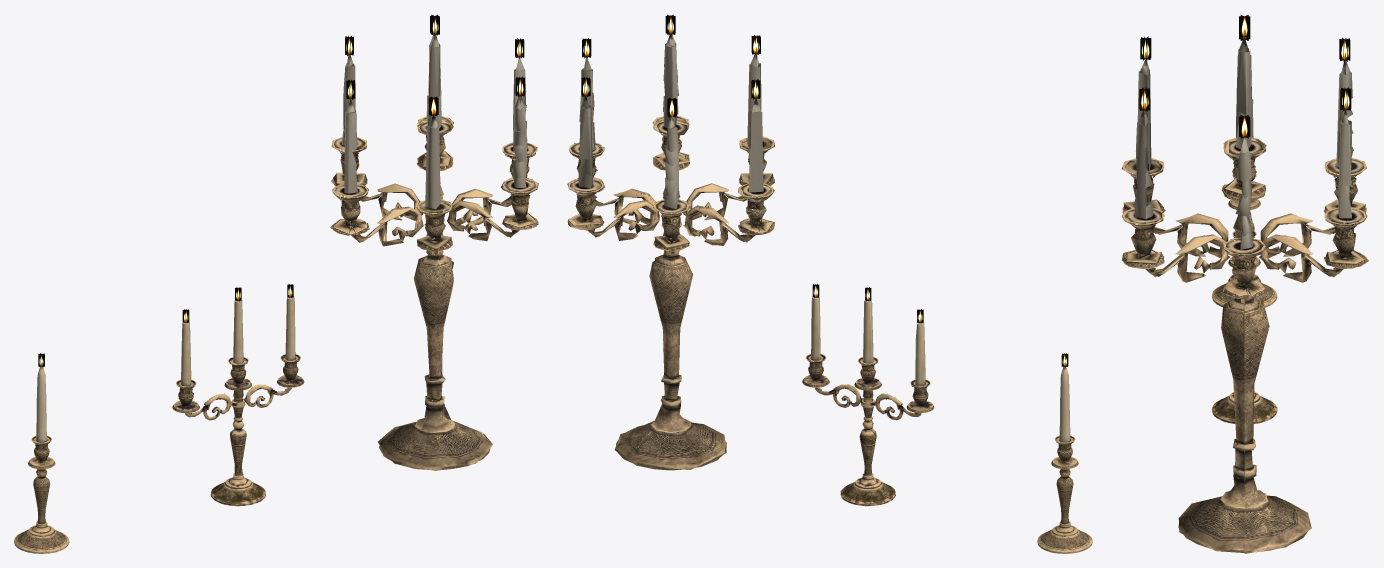
The model's file is brass_candleholders.glb.
3 renders of one model, left to right at view 1: azimuth 30°, elevation 25°; view 2: azimuth 150°, elevation 25°; view 3: azimuth 270°, elevation 25°, orthographic. The views are drawn at different scales.
Visible parts, largest first — view 1: brass_candleholder_03, brass_candleholder_02, brass_candleholder_01; view 2: brass_candleholder_03, brass_candleholder_02, brass_candleholder_01; view 3: brass_candleholder_03, brass_candleholder_02, brass_candleholder_01.
Boxes of the visible parts, left/top/right/bottom form: brass_candleholder_03: left=330, top=14, right=538, bottom=470; brass_candleholder_02: left=172, top=284, right=304, bottom=506; brass_candleholder_01: left=14, top=353, right=69, bottom=553; brass_candleholder_03: left=567, top=14, right=774, bottom=470; brass_candleholder_02: left=802, top=284, right=934, bottom=506; brass_candleholder_01: left=1037, top=353, right=1092, bottom=553; brass_candleholder_03: left=1121, top=15, right=1368, bottom=553; brass_candleholder_02: left=1212, top=231, right=1277, bottom=423; brass_candleholder_01: left=1212, top=174, right=1277, bottom=307.
Bounding box in the file's own units: 1.05 × 0.8353 × 0.3691.
Materials: 5 (5 with a texture image).
